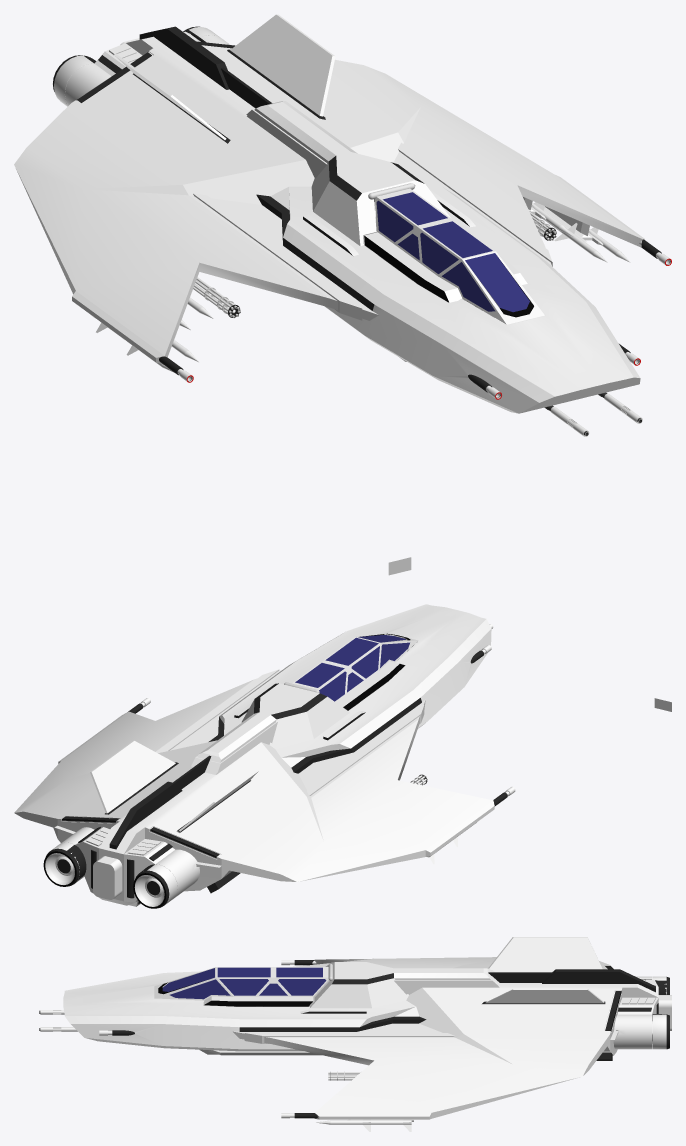
Rendered from DarkFighter1.fbx.
The picture shows the model from 3 angles, top to bottom: view 1: azimuth 30°, elevation 25°; view 2: azimuth 150°, elevation 25°; view 3: azimuth 270°, elevation 25°; orthographic projection. The views are drawn at different scales.
Visible parts, largest first — view 1: Group_058, Group_032, Group_057, Group_031, Group_046, Group_034, Group_003, CockpitCanopyFront_001, Group_020, Group_001, Group_050, Component#19_001 (+2 smaller); view 2: Group_058, Group_032, Group_057, Group_046, Group_031, Group_034, Group_050, Group_003, Group_020, Group_055, Group_024, Group_029 (+7 smaller); view 3: Group_032, Group_031, Group_020, Group_060, Group_003, Group_024, Group_057, Group_058, Group_034, CockpitCanopyFront_001, Group_001, Group_046 (+5 smaller).
Boxes of the visible parts, x1,y1,x2,y2 form: Group_058: (14, 36, 385, 364); Group_032: (196, 41, 644, 266); Group_057: (283, 186, 594, 413); Group_031: (375, 184, 640, 398); Group_046: (139, 27, 389, 246); Group_034: (227, 14, 335, 119); Group_003: (375, 185, 495, 276); CockpitCanopyFront_001: (438, 251, 544, 324); Group_020: (148, 26, 450, 217); Group_001: (364, 213, 527, 324); Group_050: (65, 43, 142, 105); Component#19_001: (534, 205, 630, 262); Group_058: (112, 692, 494, 881); Group_032: (14, 669, 281, 851); Group_057: (275, 610, 491, 757); Group_046: (113, 688, 349, 849); Group_031: (220, 604, 456, 735); Group_034: (90, 740, 178, 814); Group_050: (124, 827, 221, 898); Group_003: (292, 637, 381, 702); Group_020: (109, 683, 298, 848); Group_055: (103, 851, 154, 906); Group_024: (54, 819, 119, 847); Group_029: (75, 842, 113, 902); Group_032: (227, 983, 658, 1119); Group_031: (63, 992, 415, 1051); Group_020: (310, 970, 655, 1008); Group_060: (488, 937, 602, 972); Group_003: (216, 967, 330, 996); Group_024: (610, 989, 658, 1060); Group_057: (63, 971, 201, 1002); Group_058: (293, 957, 658, 992); Group_034: (482, 988, 605, 1004); CockpitCanopyFront_001: (154, 967, 233, 1000); Group_001: (203, 980, 329, 1006); Group_046: (325, 962, 655, 987).
Size of the model in its own units: 8399 by 2661 by 14921.
